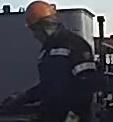gloves: (0, 90, 33, 107)
helmet: (24, 0, 57, 29)
vest: (36, 26, 97, 121)
